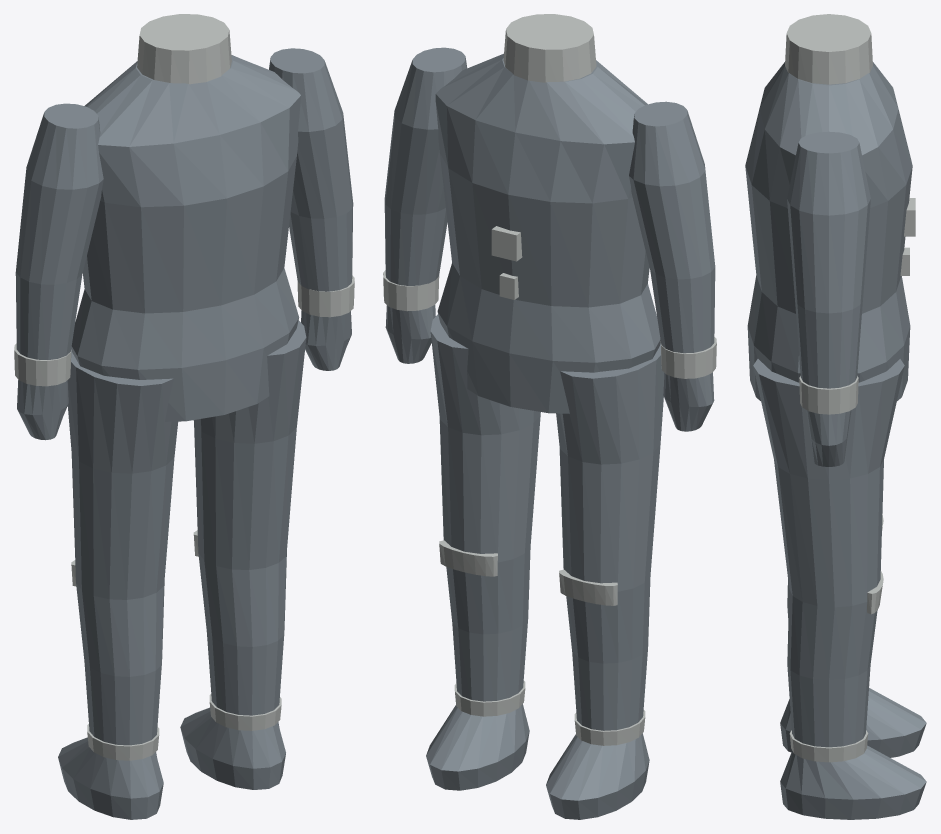
File: visual-far.glb
3 renders of one model, left to right at view 1: azimuth 30°, elevation 25°; view 2: azimuth 150°, elevation 25°; view 3: azimuth 270°, elevation 25°, orthographic. The views are drawn at different scales.
Visible parts, largest first — view 1: 精细体素学龄前身体母版; view 2: 精细体素学龄前身体母版; view 3: 精细体素学龄前身体母版.
Part boxes in pixels (x1=…): 精细体素学龄前身体母版: x1=14, y1=14, x2=354, y2=819; 精细体素学龄前身体母版: x1=383, y1=14, x2=716, y2=819; 精细体素学龄前身体母版: x1=745, y1=14, x2=926, y2=819.
Bounding box in the file's own units: 0.3264 × 0.707 × 0.1568.
Materials: 2 (2 with a texture image).
